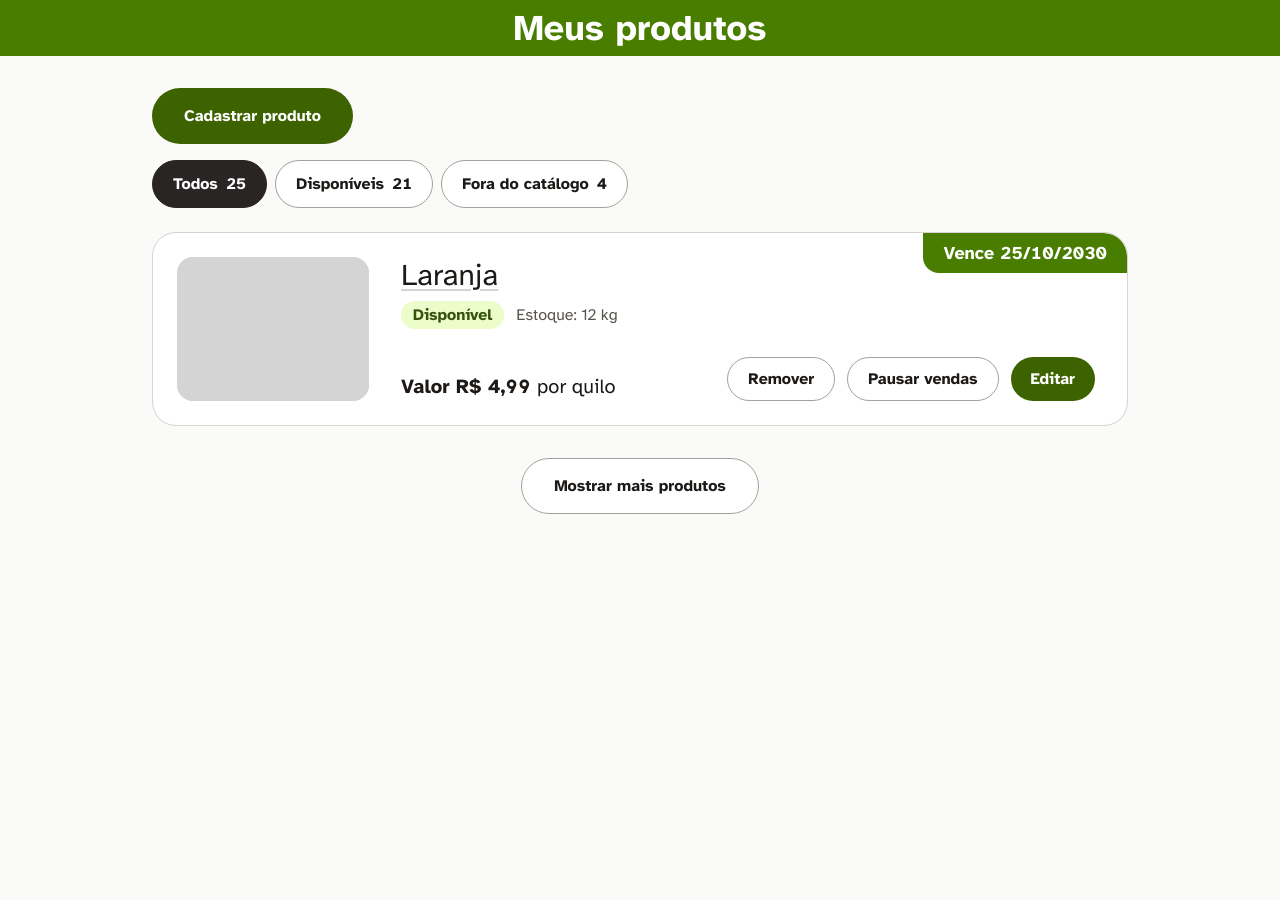
Test case: MyProducts, pages › shows the next page below the first one
Click the button "Mostrar mais produtos" at (640, 486), box [521,458,759,514]
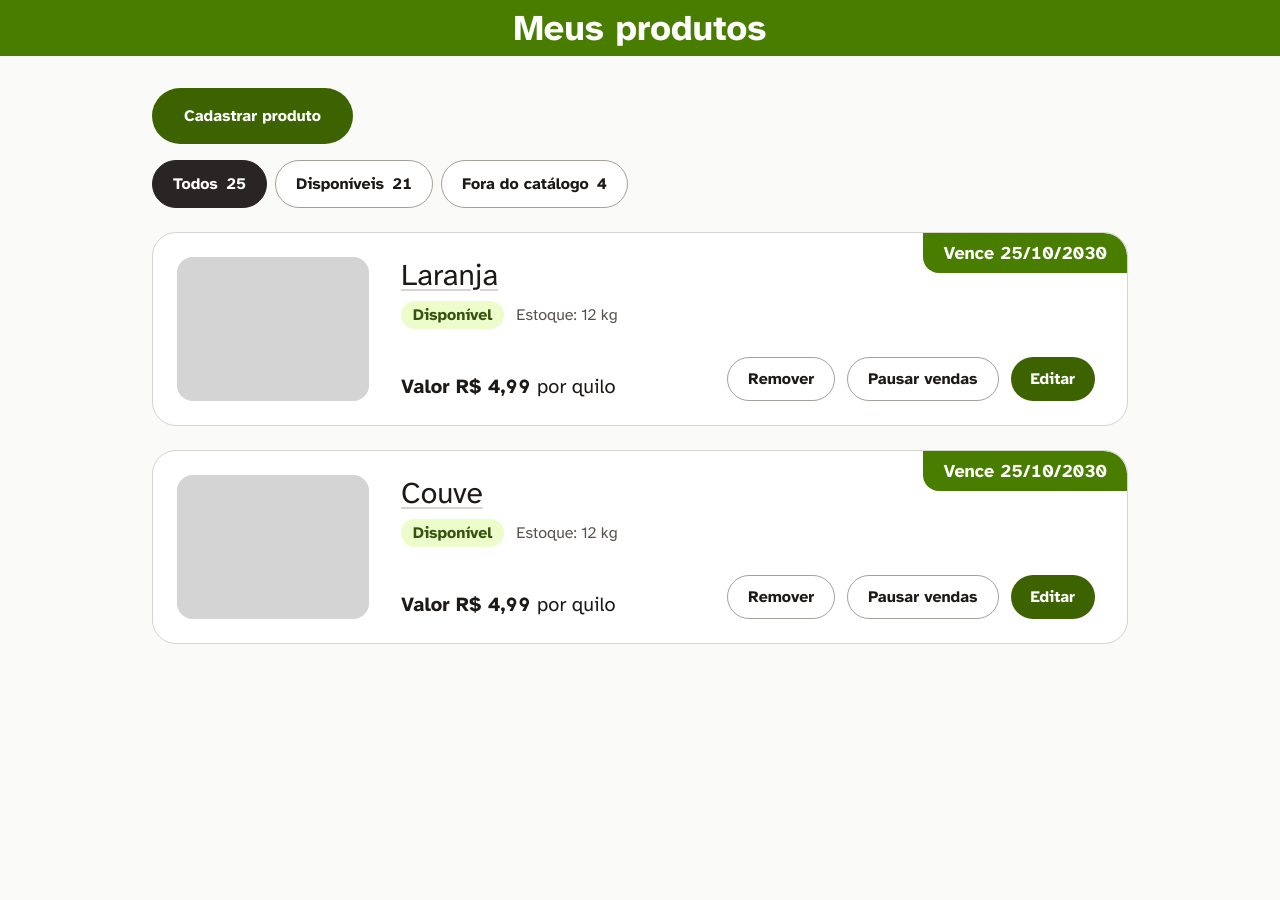
Check: the heading "Laranja" is shown, box [401,256,498,294]
Check: the heading "Couve" is shown, box [401,474,483,512]
Check: the button "Mostrar mais produtos" is gone
